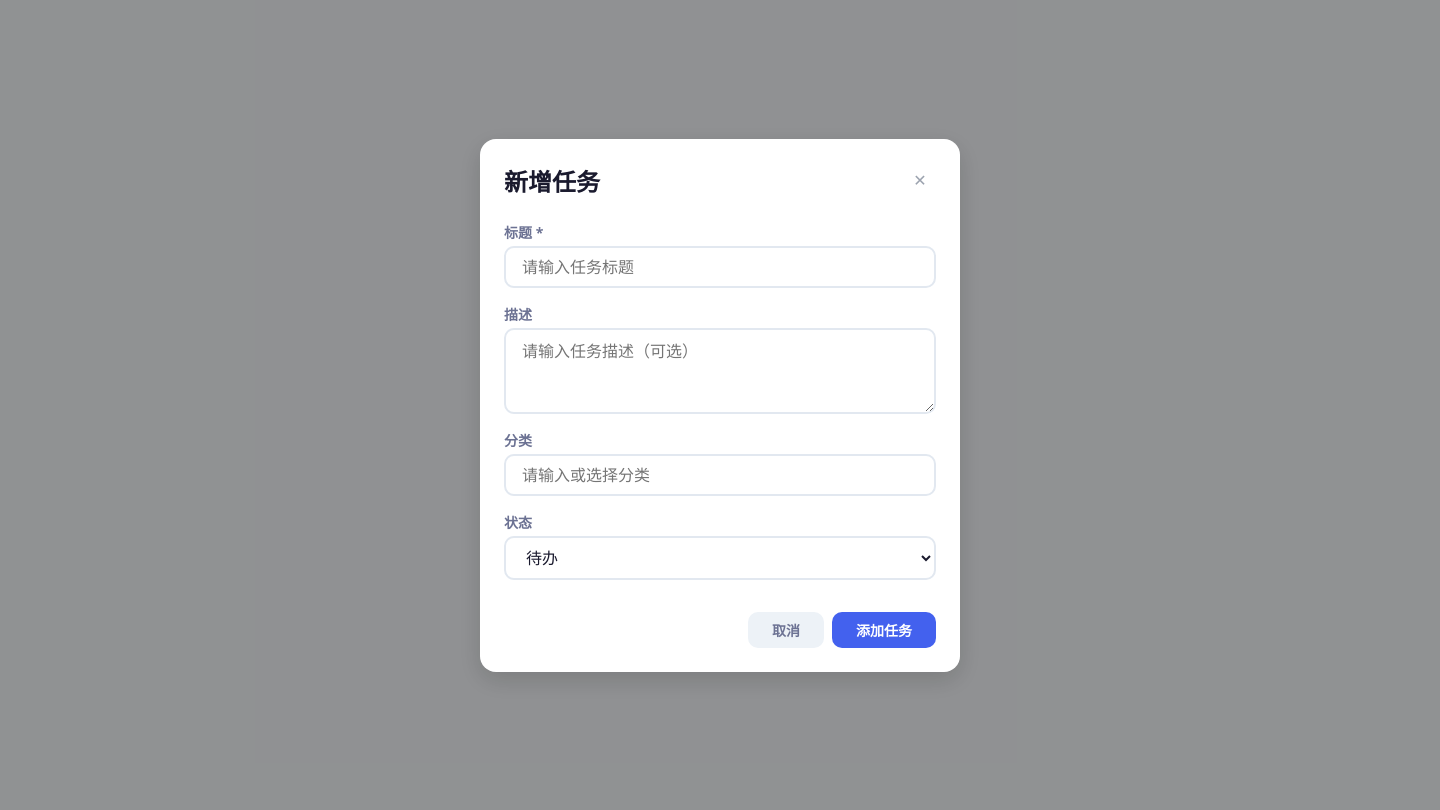
Scenario: AddTaskModal › shows category suggestions for existing categories
Type "开" into the field with placeholder "请输入或选择分类". click: (720, 474)
box: [504, 454, 936, 496]
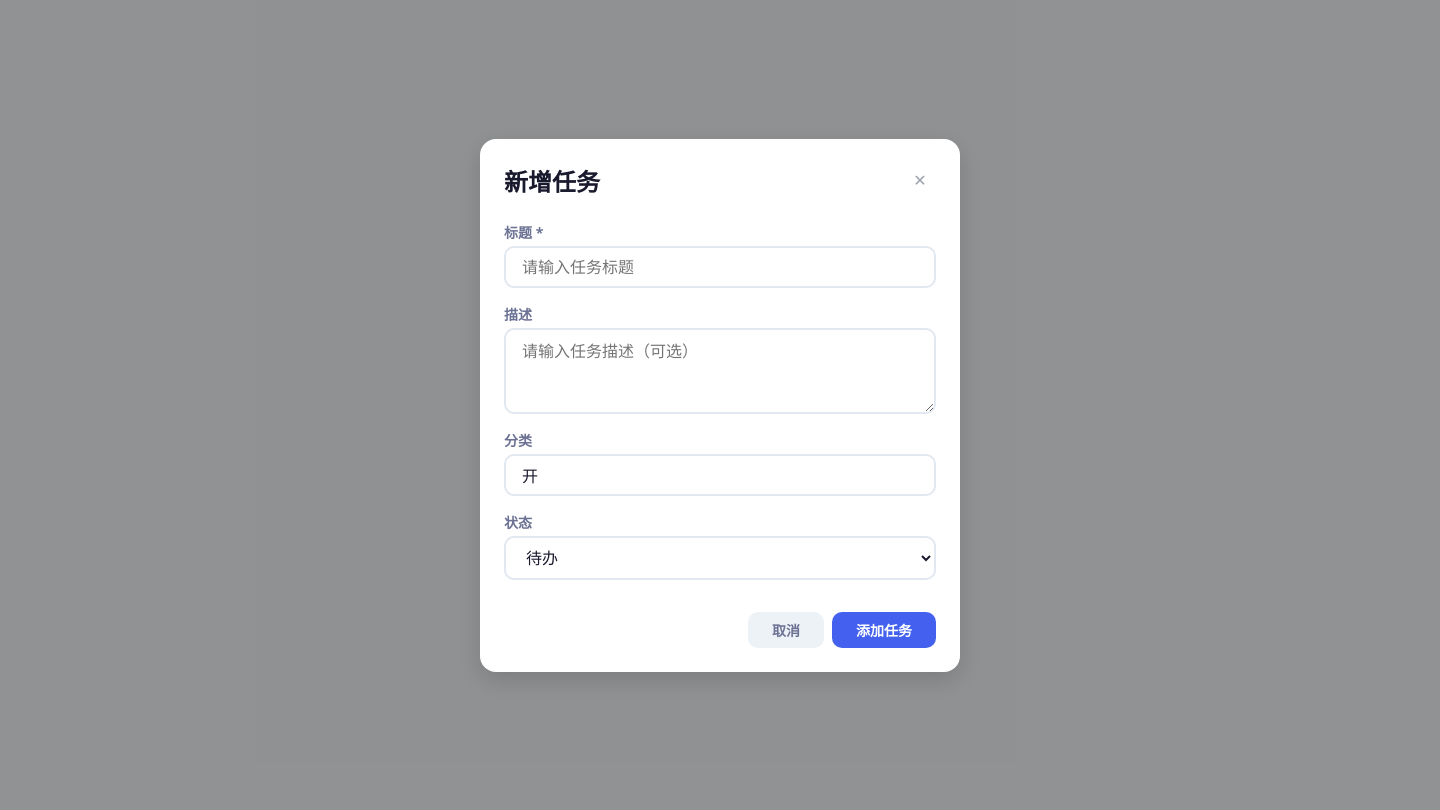
Focus the field with placeholder "请输入或选择分类". click: (720, 474)
box: [504, 454, 936, 496]
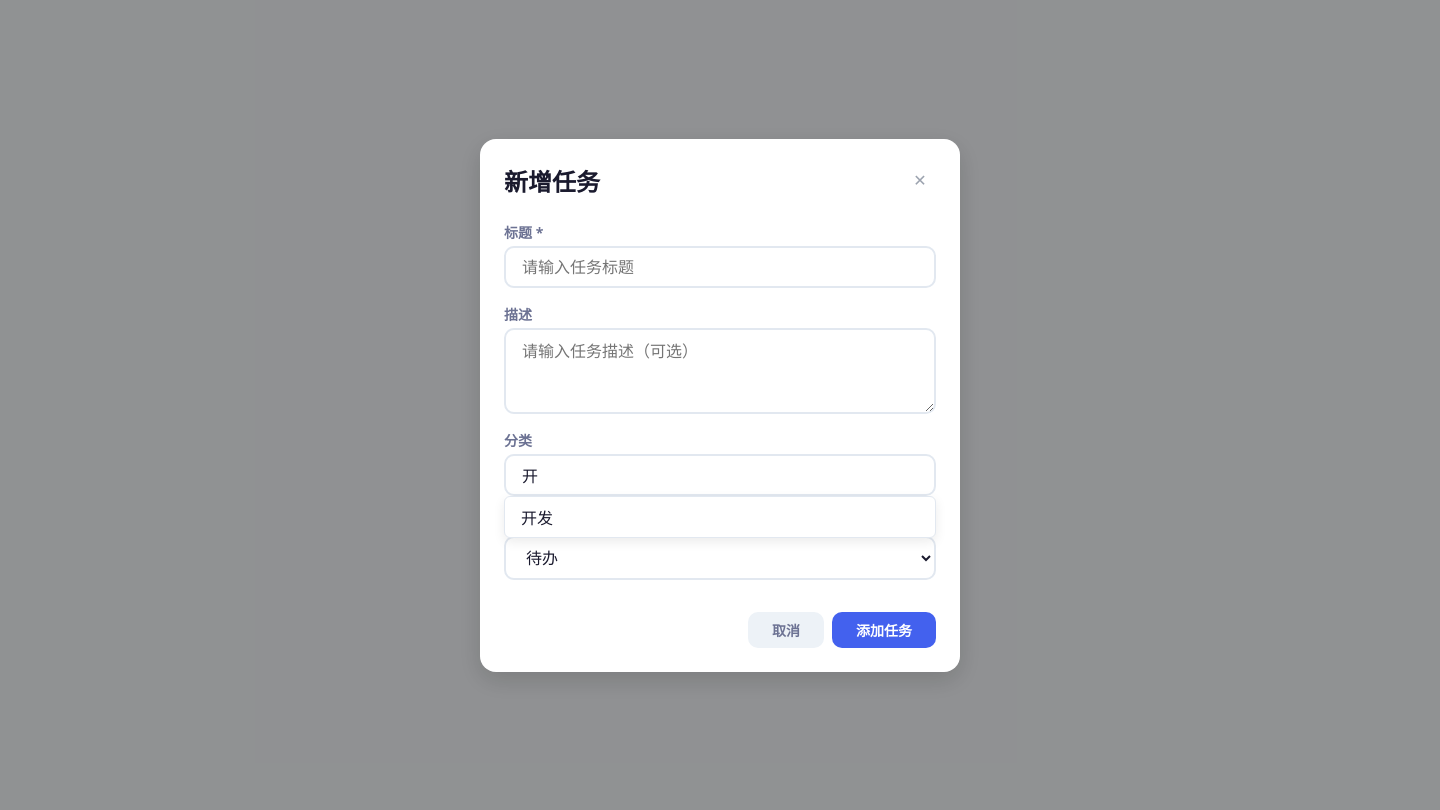
Expected: the text "开发" is shown, [521, 506, 553, 528]
